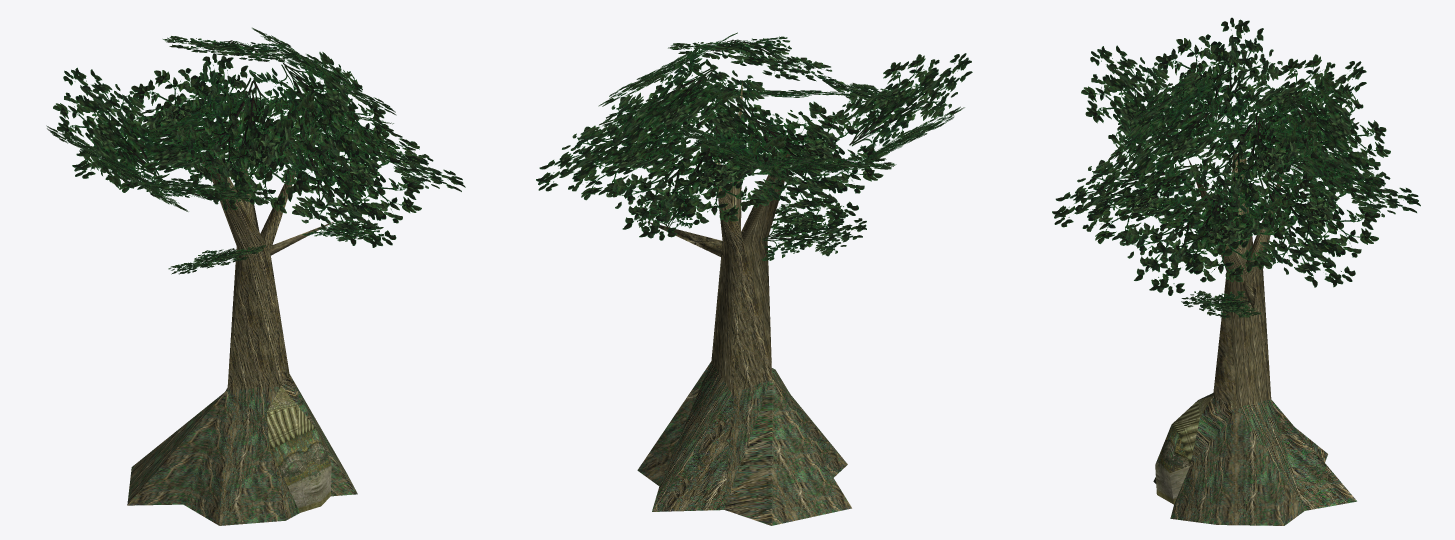
File: swmp_decd_sacredtree_l4.fbx
3 renders of one model, left to right at view 1: azimuth 30°, elevation 25°; view 2: azimuth 150°, elevation 25°; view 3: azimuth 270°, elevation 25°, orthographic. The views are drawn at different scales.
Visible parts, largest first — view 1: mesh_node; view 2: mesh_node; view 3: mesh_node.
Part boxes in pixels (x1,y1,x2,y2): mesh_node: (46,27,465,525); mesh_node: (536,32,972,525); mesh_node: (1052,17,1420,525).
Size of the model in its own units: 40.53 by 41.51 by 37.48.
